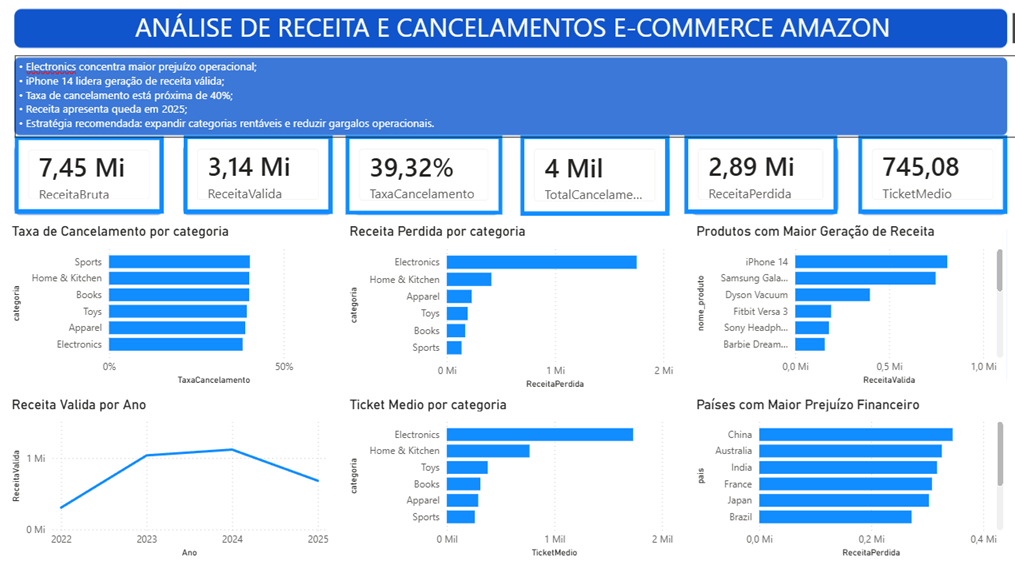

The page's visual inventory and layout, read from the dashboard file:
{"tool":"powerbi","page":{"name":"Página 1","canvas":[1280,720],"ordinal":0},"visuals":[{"type":"cardVisual","fields":{"Data":["f_ecommerce_amazon.ReceitaBruta"]},"box":[18.4,173,186.5,96.9],"z":0},{"type":"cardVisual","fields":{"Data":["f_ecommerce_amazon.ReceitaValida"]},"box":[229.4,171.8,186.5,98.2],"z":1000},{"type":"cardVisual","fields":{"Data":["f_ecommerce_amazon.ReceitaPerdida"]},"box":[856.4,171.8,191.4,98.2],"z":2000},{"type":"cardVisual","fields":{"Data":["f_ecommerce_amazon.TaxaCancelamento"]},"box":[431.9,171.8,196.3,99.4],"z":3000},{"type":"cardVisual","fields":{"Data":["f_ecommerce_amazon.TicketMedio"]},"box":[1073.6,171.8,186.5,98.2],"z":4000},{"type":"cardVisual","fields":{"Data":["f_ecommerce_amazon.TotalCancelamentos"]},"box":[651.5,171.8,186.5,100.6],"z":5000},{"type":"clusteredBarChart","title":"Taxa de Cancelamento por categoria","fields":{"Category":["f_ecommerce_amazon.categoria"],"Y":["f_ecommerce_amazon.TaxaCancelamento"]},"box":[9.8,281,406.1,207.4],"z":6000},{"type":"barChart","title":"Receita Perdida por categoria","fields":{"Category":["f_ecommerce_amazon.categoria"],"Y":["f_ecommerce_amazon.ReceitaPerdida"]},"box":[431.9,281,414.7,212.3],"z":7000},{"type":"clusteredBarChart","title":"Produtos com Maior Geração de Receita","fields":{"Category":["f_ecommerce_amazon.nome_produto"],"Y":["f_ecommerce_amazon.ReceitaValida"]},"box":[866.3,281,393.9,207.4],"z":8000},{"type":"textbox","box":[18.8,11.2,1261.2,50],"z":9000},{"type":"lineChart","title":"Receita Valida por Ano","fields":{"Category":["f_ecommerce_amazon.data_compra.Variation.Hierarquia de datas.Ano","f_ecommerce_amazon.data_compra.Variation.Hierarquia de datas.Trimestre","f_ecommerce_amazon.data_compra.Variation.Hierarquia de datas.Mês","f_ecommerce_amazon.data_compra.Variation.Hierarquia de datas.Dia"],"Y":["f_ecommerce_amazon.ReceitaValida"]},"box":[10,498,406,207],"z":10000},{"type":"clusteredBarChart","title":"Ticket Medio por categoria","fields":{"Category":["f_ecommerce_amazon.categoria"],"Y":["f_ecommerce_amazon.TicketMedio"]},"box":[432,498,415,207],"z":11000},{"type":"clusteredBarChart","title":"Países com Maior Prejuízo Financeiro","fields":{"Category":["f_ecommerce_amazon.pais"],"Y":["f_ecommerce_amazon.ReceitaPerdida"]},"box":[866,498,394,207],"z":12000},{"type":"textbox","box":[18.3,71.7,1261.7,101.7],"z":13000}]}

Visuals, with their boxes in screenshot pixels (x1, y1, x2, y2), scaled from the page's 1280x720 canvas onto the 1015x568 screenshot:
cardVisual - f_ecommerce_amazon.ReceitaBruta: Rect(15, 136, 162, 213)
cardVisual - f_ecommerce_amazon.ReceitaValida: Rect(182, 136, 330, 213)
cardVisual - f_ecommerce_amazon.ReceitaPerdida: Rect(679, 136, 831, 213)
cardVisual - f_ecommerce_amazon.TaxaCancelamento: Rect(342, 136, 498, 214)
cardVisual - f_ecommerce_amazon.TicketMedio: Rect(851, 136, 999, 213)
cardVisual - f_ecommerce_amazon.TotalCancelamentos: Rect(517, 136, 665, 215)
"Taxa de Cancelamento por categoria" clusteredBarChart: Rect(8, 222, 330, 385)
"Receita Perdida por categoria" barChart: Rect(342, 222, 671, 389)
"Produtos com Maior Geração de Receita" clusteredBarChart: Rect(687, 222, 999, 385)
textbox: Rect(15, 9, 1014, 48)
"Receita Valida por Ano" lineChart: Rect(8, 393, 330, 556)
"Ticket Medio por categoria" clusteredBarChart: Rect(343, 393, 672, 556)
"Países com Maior Prejuízo Financeiro" clusteredBarChart: Rect(687, 393, 999, 556)
textbox: Rect(15, 57, 1014, 137)
